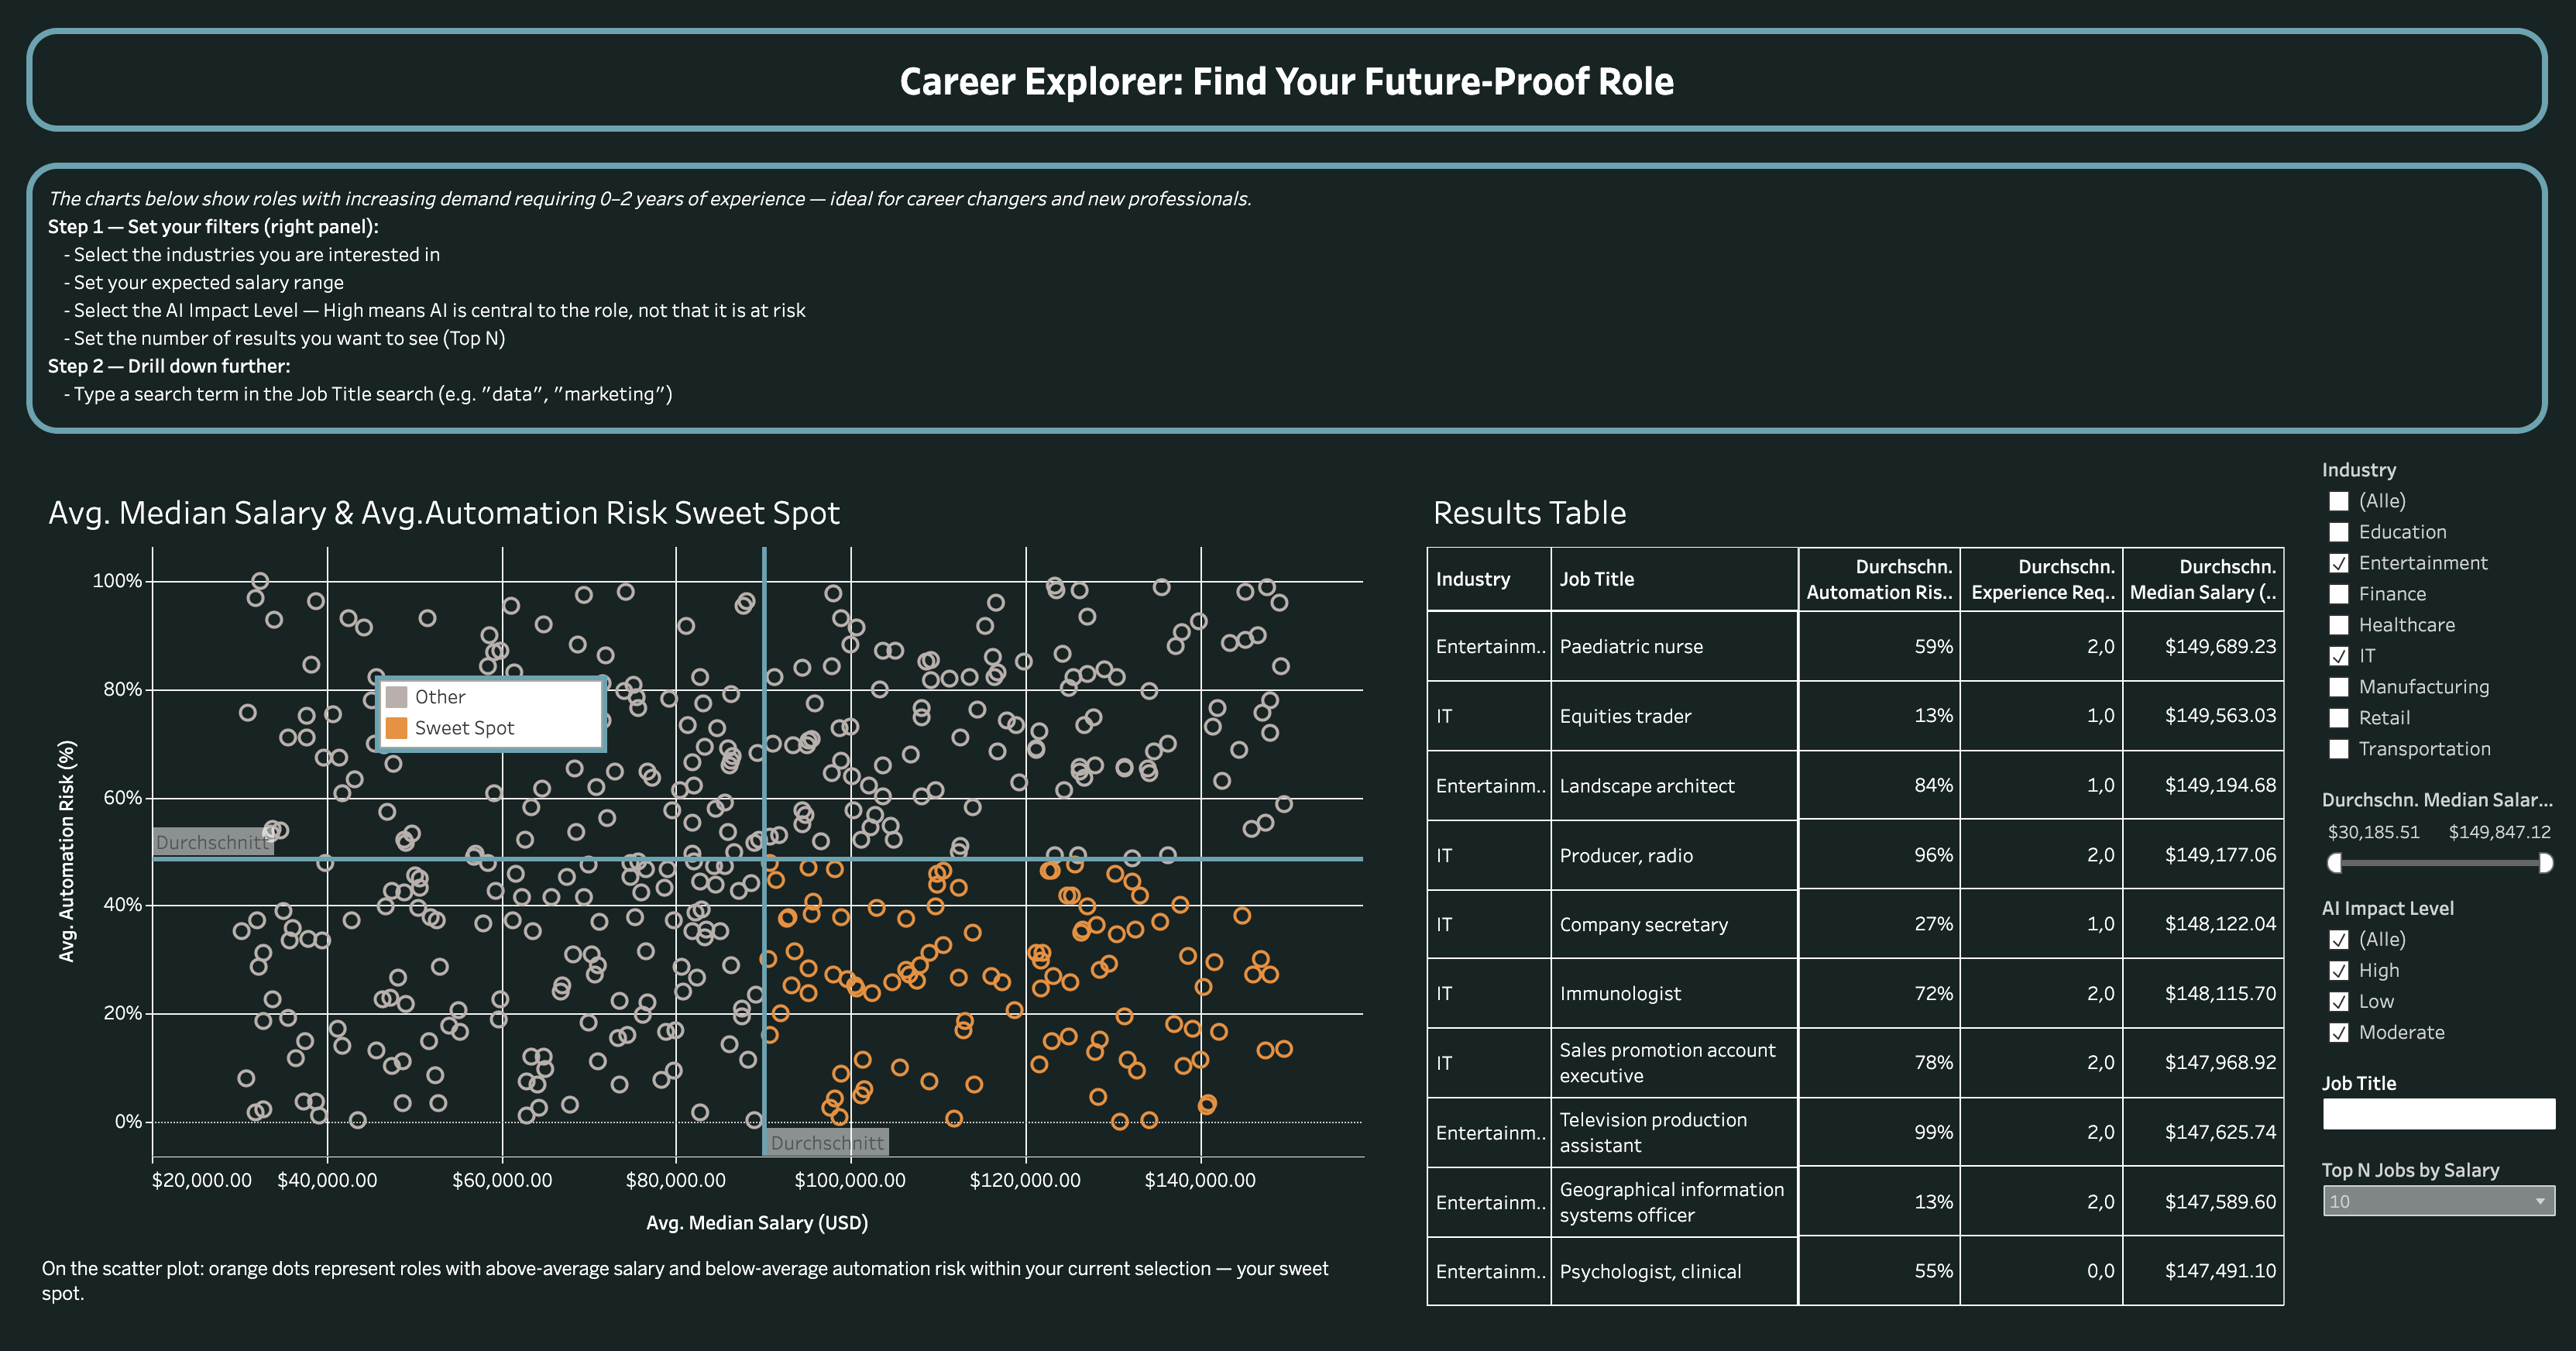

The dashboard page shown, as its layout file describes it:
{"tool":"tableau","page":{"name":"Career Changer Dashboard","canvas":[1000,1000],"units":"permille","ordinal":0},"visuals":[{"type":"title","box":[5.9,8.8,988.1,96.1]},{"type":"text","box":[5.9,105,988.1,215.5]},{"type":"worksheet","title":"Career Changer - Scatter","mark":"Automatic","rows":["Automation Risk (%)"],"cols":["Median Salary (USD)"],"box":[5.9,320.4,522.4,670.7]},{"type":"worksheet","title":"Career Changer - Results Table","mark":"Automatic","rows":["Median Salary (USD)","Industry","Job Title"],"box":[528.3,320.4,347.2,670.7]},{"type":"filter","title":"Career Changer - Scatter","param":"[federated.0zkye0v0ev2j971b2q8he0505eqy].[none:Industry:nk]","box":[875.6,320.4,118.5,224.3]},{"type":"legend","title":"Career Changer - Scatter","param":"[federated.0zkye0v0ev2j971b2q8he0505eqy].[usr:Calculation_4991624679247875:nk:6]","box":[145.9,499.4,90.4,57.5]},{"type":"filter","title":"Career Changer - Scatter","param":"[federated.0zkye0v0ev2j971b2q8he0505eqy].[avg:Median Salary (USD):qk]","box":[875.6,544.8,118.5,76.2]},{"type":"filter","title":"Career Changer - Scatter","param":"[federated.0zkye0v0ev2j971b2q8he0505eqy].[none:AI Impact Level:nk]","box":[875.6,621,118.5,119.3]},{"type":"filter","title":"Career Changer - Results Table","param":"[federated.0zkye0v0ev2j971b2q8he0505eqy].[none:Job Title:nk]","box":[875.6,740.3,118.5,57.5]},{"type":"parameter","param":"[Parameters].[Parameter 1]","box":[875.6,797.8,118.5,57.5]}]}

Visuals, with their boxes on the dashboard's canvas, which has no fixed pixel size, in thousandths of its width and height (x1, y1, x2, y2). These are canvas units, not pixel positions in the 2576x1351 screenshot, which may show the page scaled, cropped or inside an application window:
title: locate(6, 9, 994, 105)
text: locate(6, 105, 994, 320)
"Career Changer - Scatter" worksheet: locate(6, 320, 528, 991)
"Career Changer - Results Table" worksheet: locate(528, 320, 876, 991)
"Career Changer - Scatter" filter: locate(876, 320, 994, 545)
"Career Changer - Scatter" legend: locate(146, 499, 236, 557)
"Career Changer - Scatter" filter: locate(876, 545, 994, 621)
"Career Changer - Scatter" filter: locate(876, 621, 994, 740)
"Career Changer - Results Table" filter: locate(876, 740, 994, 798)
parameter: locate(876, 798, 994, 855)
